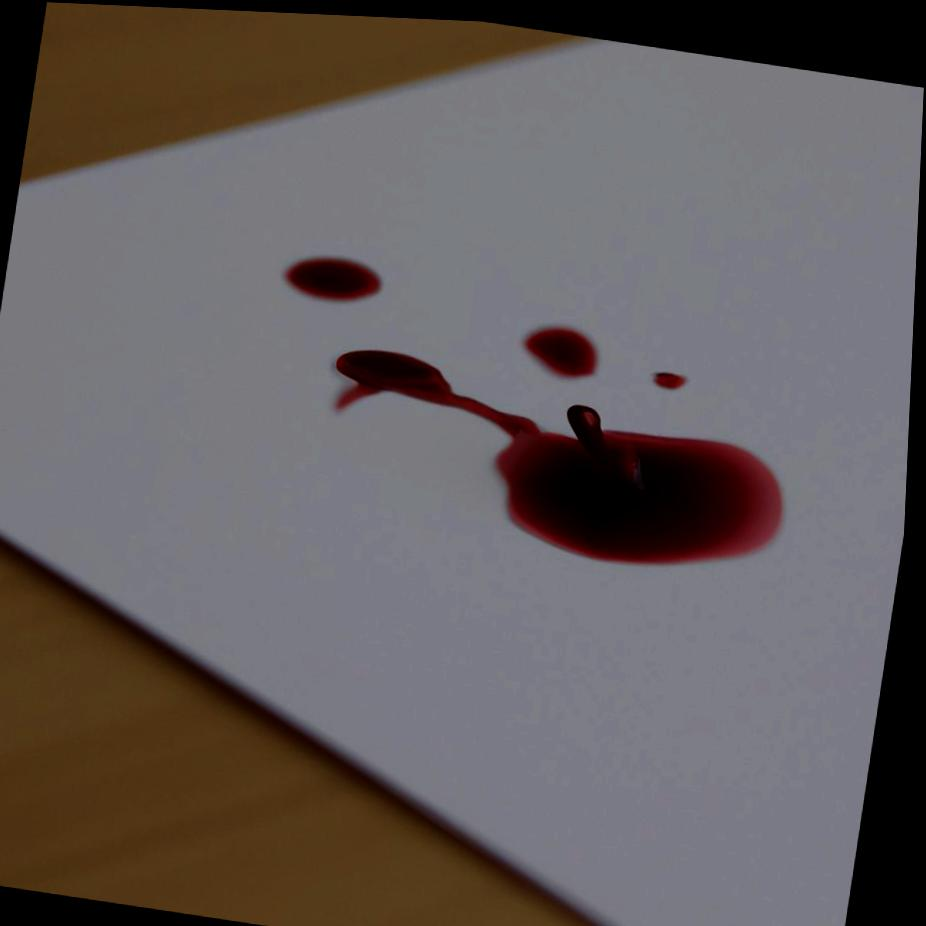Fire: (337, 345, 786, 558), (285, 254, 384, 297), (526, 321, 600, 371), (656, 365, 690, 383)
